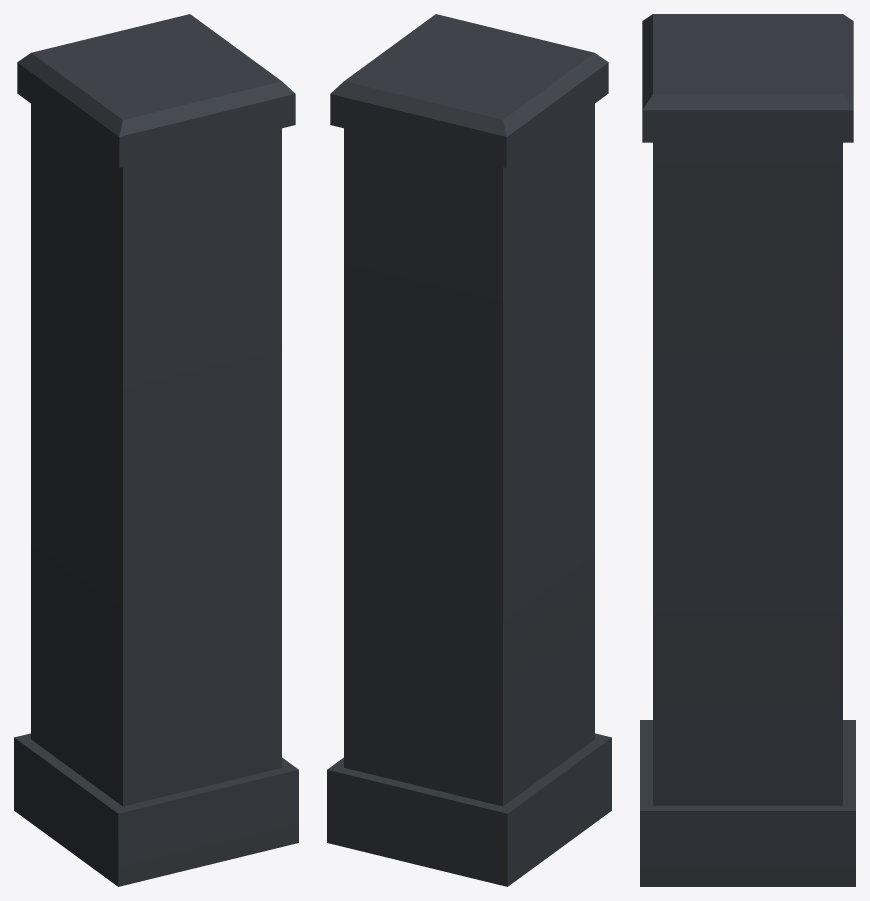
File: Fence_09.fbx
3 renders of one model, left to right at view 1: azimuth 30°, elevation 25°; view 2: azimuth 150°, elevation 25°; view 3: azimuth 270°, elevation 25°, orthographic. The views are drawn at different scales.
Parts seen in each view (by area): view 1: Fence_09; view 2: Fence_09; view 3: Fence_09.
Boxes of the visible parts, x1,y1,x2,y2 form: Fence_09: [14, 14, 298, 886]; Fence_09: [327, 14, 611, 886]; Fence_09: [640, 14, 855, 886].
Bounding box in the file's own units: 0.4543 × 1.83 × 0.4543.
